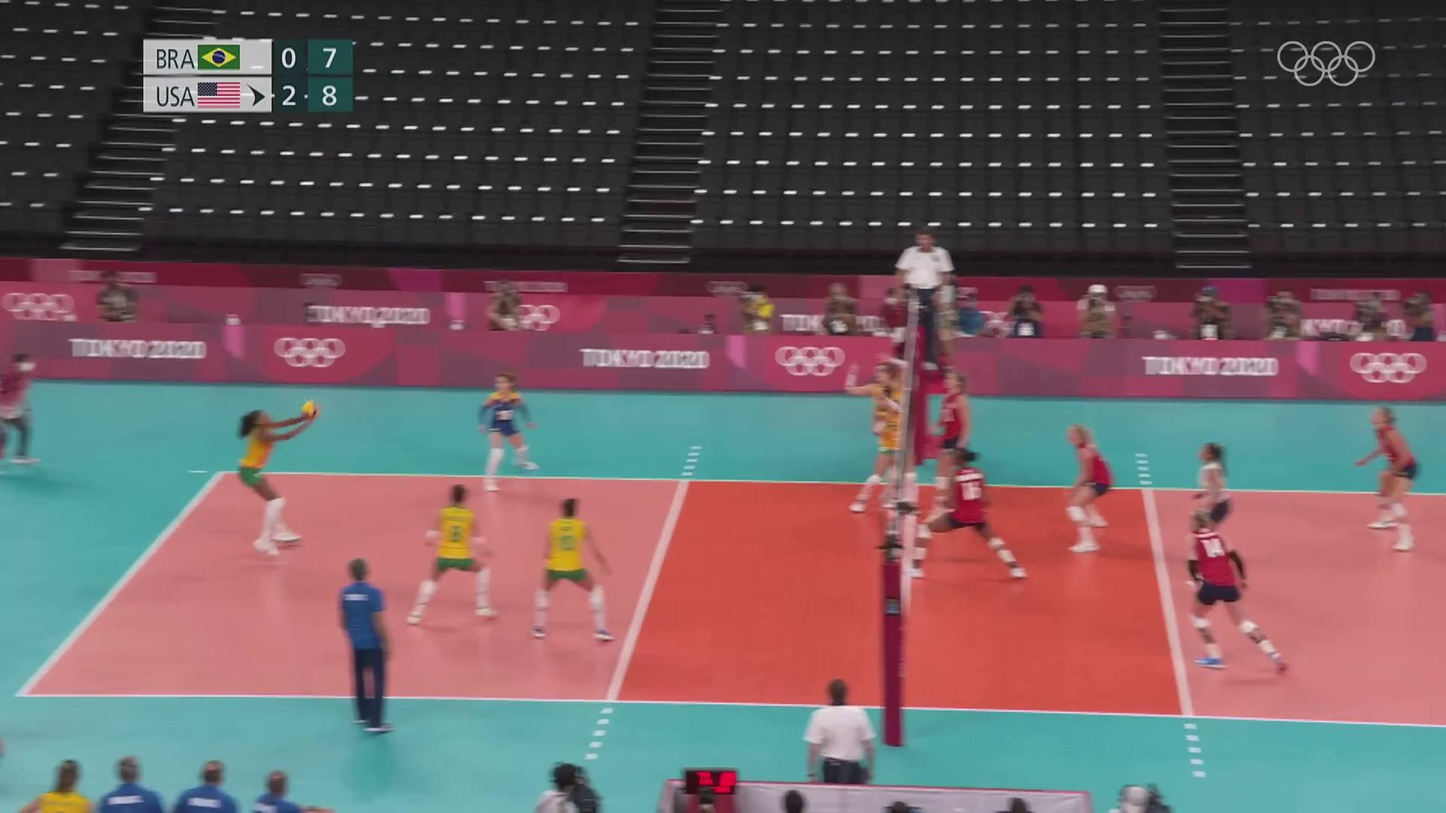player: (1187, 512, 1294, 674), (914, 447, 1023, 578), (241, 404, 327, 555), (409, 483, 498, 628), (525, 500, 615, 641), (1353, 405, 1425, 557), (1181, 443, 1242, 581), (848, 362, 908, 500), (1053, 423, 1115, 553), (850, 384, 903, 514), (477, 378, 538, 481), (932, 371, 975, 513)
refree: (888, 232, 956, 367), (804, 678, 883, 784), (0, 350, 40, 468)
